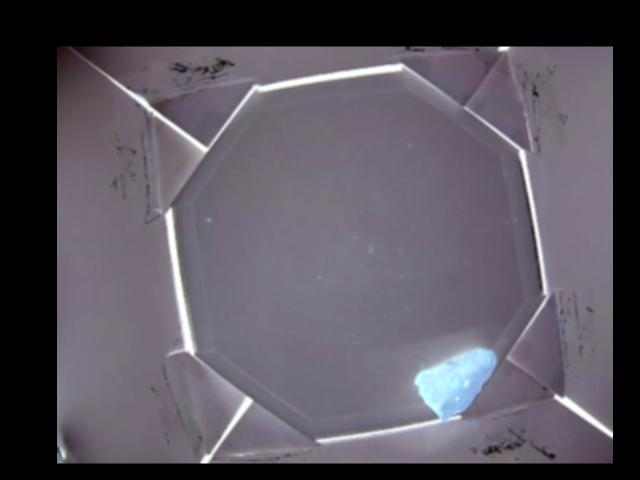Brisk: (414, 347, 495, 420)
